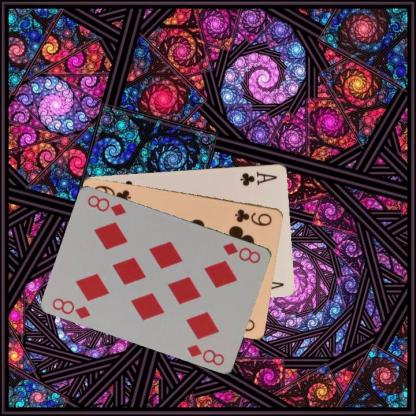8d: (220, 239, 262, 265), (50, 295, 92, 320)
9c: (232, 206, 274, 227)
Ac: (238, 168, 278, 187)
